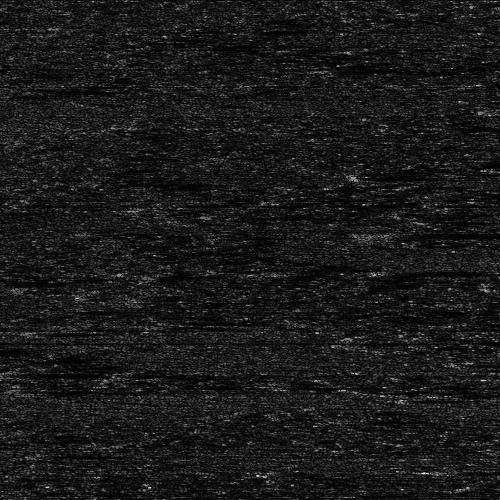rock: (286, 60, 327, 75), (357, 227, 398, 238), (0, 367, 35, 376), (405, 469, 458, 472), (373, 268, 404, 273)
shadow: (307, 60, 449, 75), (378, 227, 500, 238), (9, 367, 97, 376), (389, 268, 493, 273), (432, 469, 500, 472), (0, 16, 16, 23)
